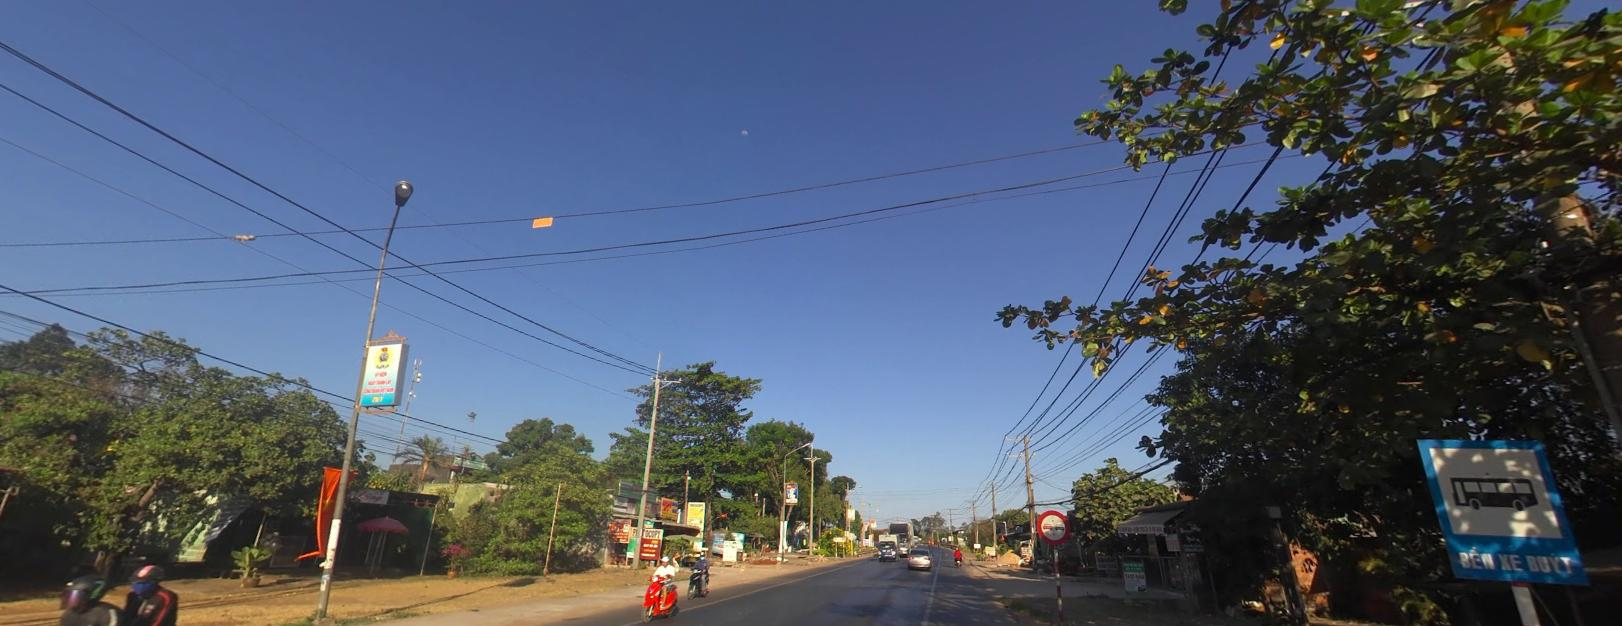Cam con lai: (1037, 507, 1072, 544)
